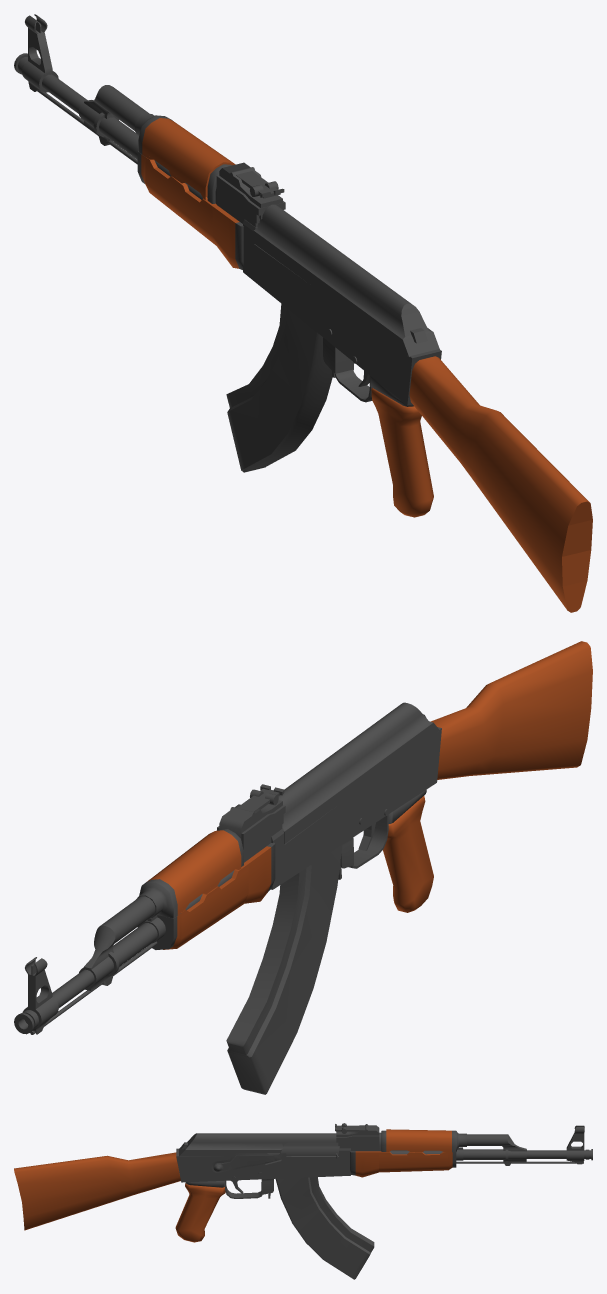
The picture shows the model from 3 angles, top to bottom: view 1: azimuth 30°, elevation 25°; view 2: azimuth 150°, elevation 25°; view 3: azimuth 270°, elevation 25°; orthographic projection. The views are drawn at different scales.
Parts seen in each view (by area): view 1: Cube.024, Cube.026; view 2: Cube.024, Cube.026; view 3: Cube.024, Cube.026.
Boxes of the visible parts, x1,y1,x2,y2 form: Cube.024: [14, 14, 592, 612]; Cube.026: [226, 303, 332, 472]; Cube.024: [14, 641, 592, 1034]; Cube.026: [226, 844, 342, 1094]; Cube.024: [14, 1123, 592, 1242]; Cube.026: [275, 1177, 374, 1279].
Bounding box in the file's own units: 3.99 × 25.39 × 88.17.
